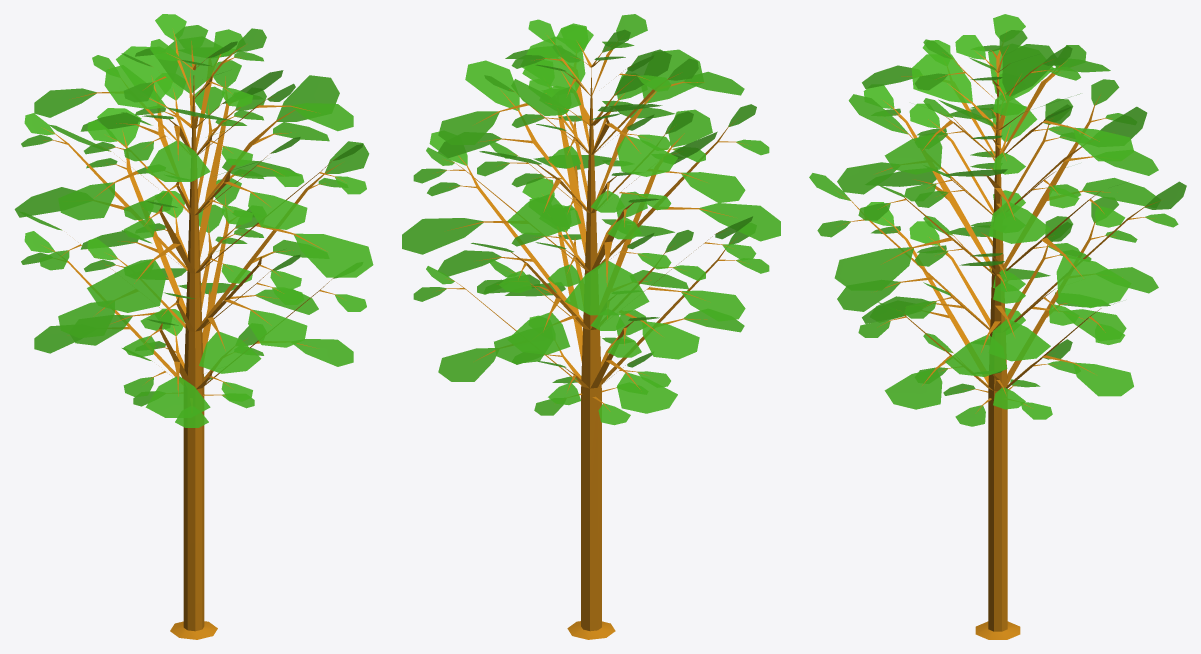
The model's file is tree.obj.
3 renders of one model, left to right at view 1: azimuth 30°, elevation 25°; view 2: azimuth 150°, elevation 25°; view 3: azimuth 270°, elevation 25°, orthographic.
Parts seen in each view (by area): view 1: BLAD, TAKSTAM; view 2: BLAD, TAKSTAM; view 3: BLAD, TAKSTAM.
Boxes of the visible parts, x1,y1,x2,y2 form: BLAD: (14,14,373,427); TAKSTAM: (41,31,346,639); BLAD: (402,14,780,425); TAKSTAM: (436,35,748,639); BLAD: (809,14,1186,426); TAKSTAM: (838,31,1160,639).
Size of the model in its own units: 7404 by 12649 by 7404.
